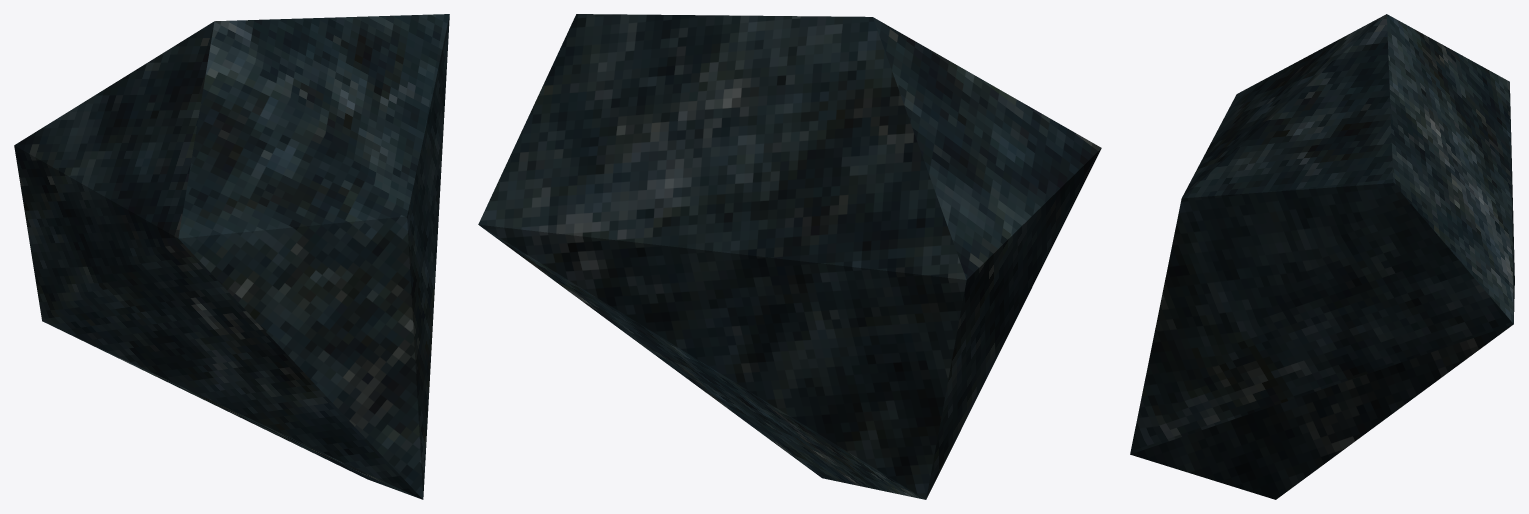
The model's file is rock.fbx.
The picture shows the model from 3 angles, left to right: view 1: azimuth 30°, elevation 25°; view 2: azimuth 150°, elevation 25°; view 3: azimuth 270°, elevation 25°; orthographic projection. The views are drawn at different scales.
Visible parts, largest first — view 1: Rock; view 2: Rock; view 3: Rock.
Part boxes in pixels (x1=…): Rock: x1=14, y1=14, x2=449, y2=499; Rock: x1=478, y1=14, x2=1101, y2=499; Rock: x1=1130, y1=14, x2=1514, y2=499.
Size of the model in its own units: 182 by 193 by 153.
